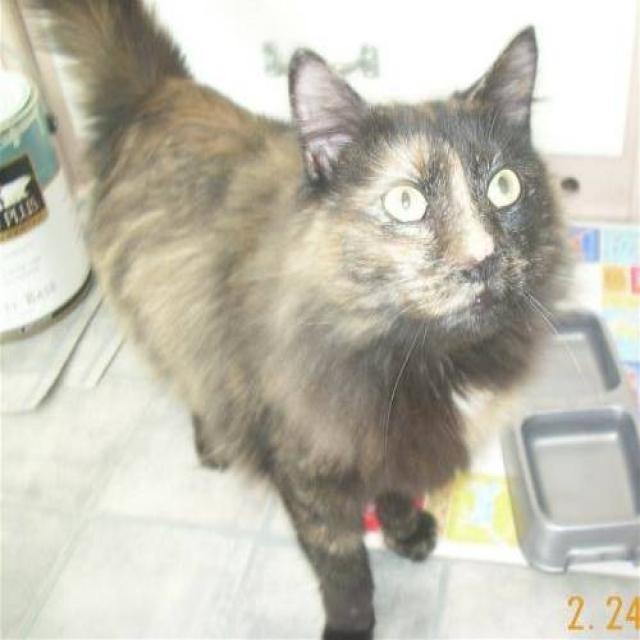cat: (17, 0, 577, 639)
